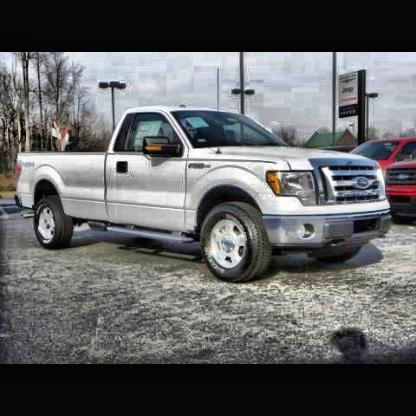Ford F-150 Regular Cab 2012: (17, 110, 397, 285)
